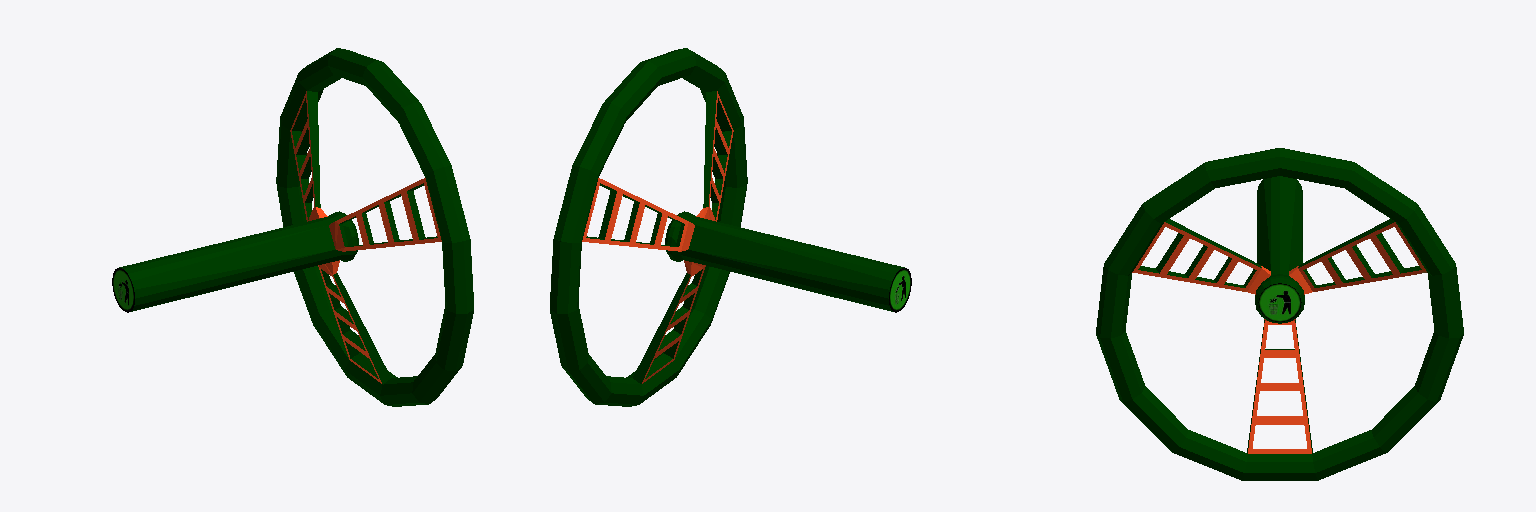
3 renders of one model, left to right at view 1: azimuth 30°, elevation 25°; view 2: azimuth 150°, elevation 25°; view 3: azimuth 270°, elevation 25°, orthographic.
Visible parts, largest first — view 1: cylinder1; view 2: cylinder1; view 3: cylinder1.
Part boxes in pixels (x1,y1,x2,y2): cylinder1: (112, 48, 473, 406); cylinder1: (550, 48, 911, 406); cylinder1: (1096, 148, 1463, 480).
Bounding box in the file's own units: 0.3301 × 0.3958 × 0.398.
Materials: 1 (1 with a texture image).